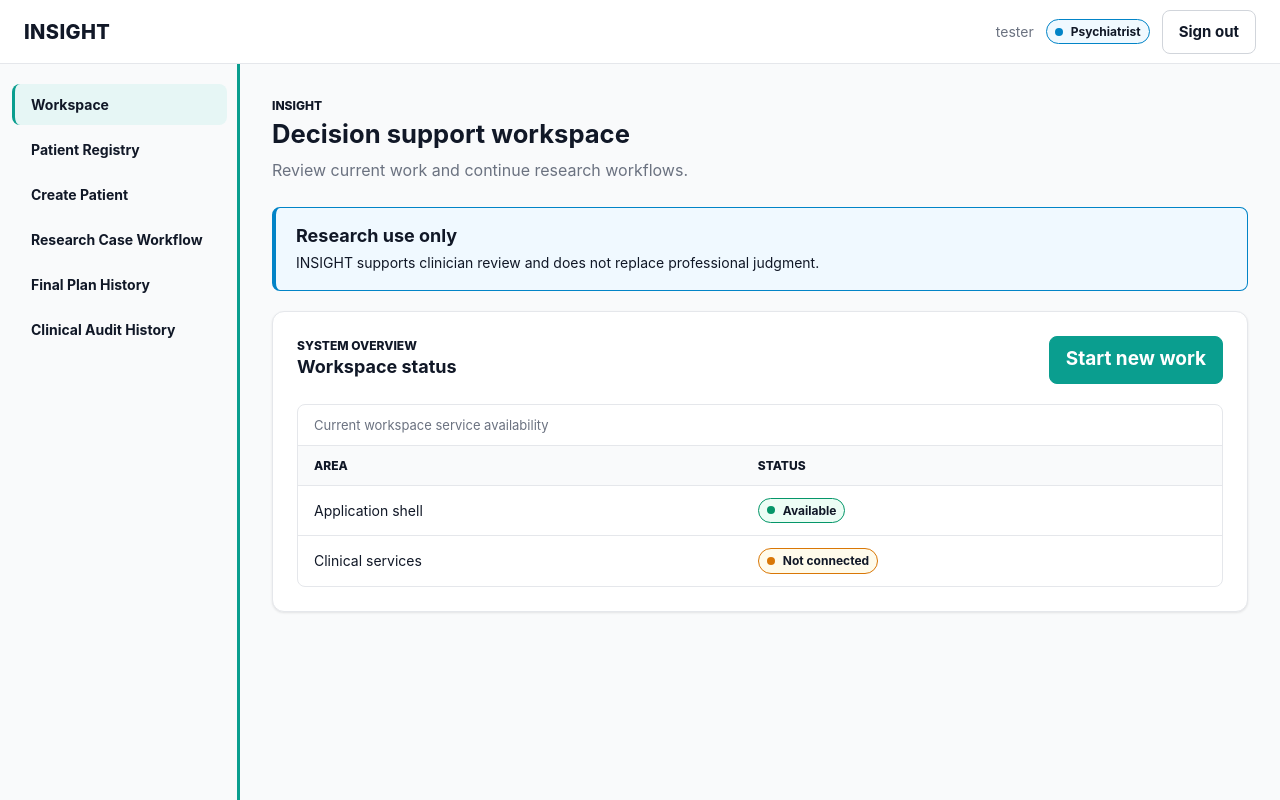
Scenario: application shell › routes without losing semantic shell landmarks
Click the link "Patient Registry".
click(85, 150)  # box [31,141,140,158]
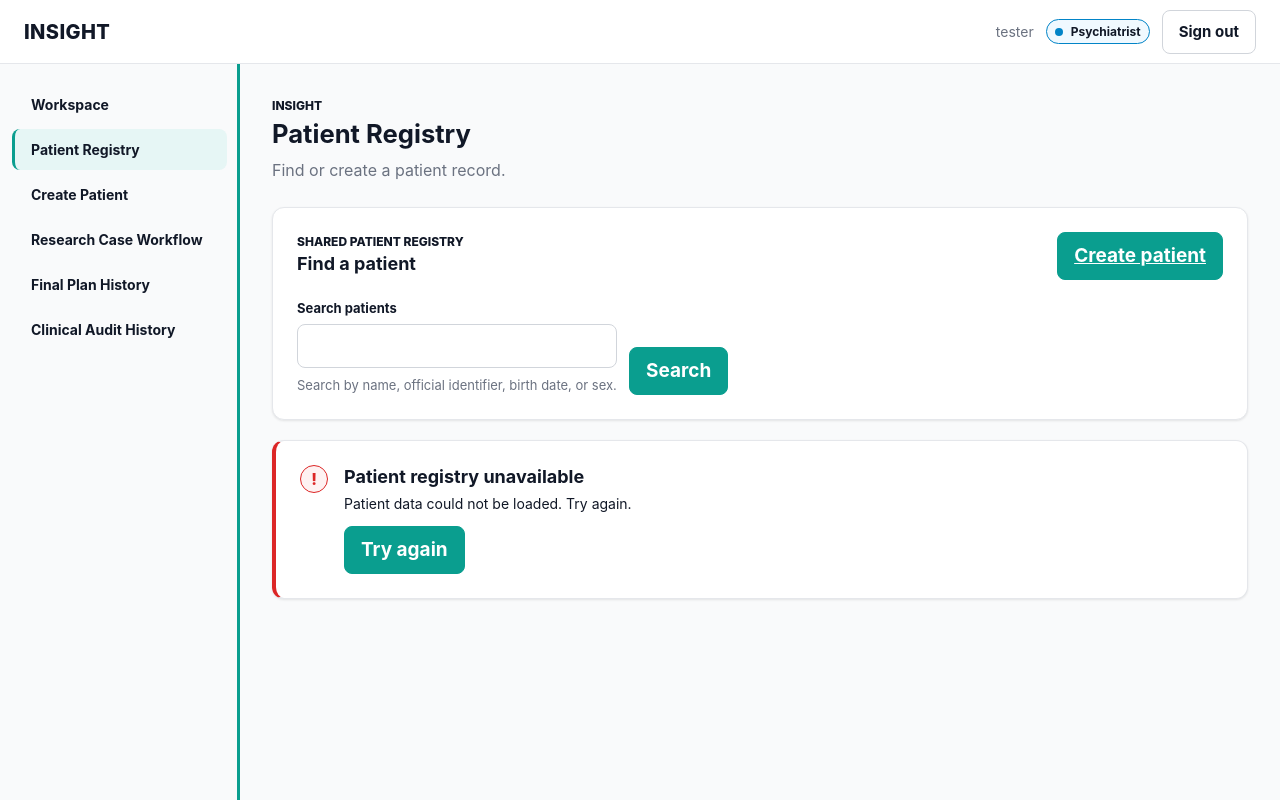
Expected: the navigation bar named "Application navigation" is shown, [12,84,227,350]
Result: the heading "Patient Registry" is shown at [272,118,471,149]
